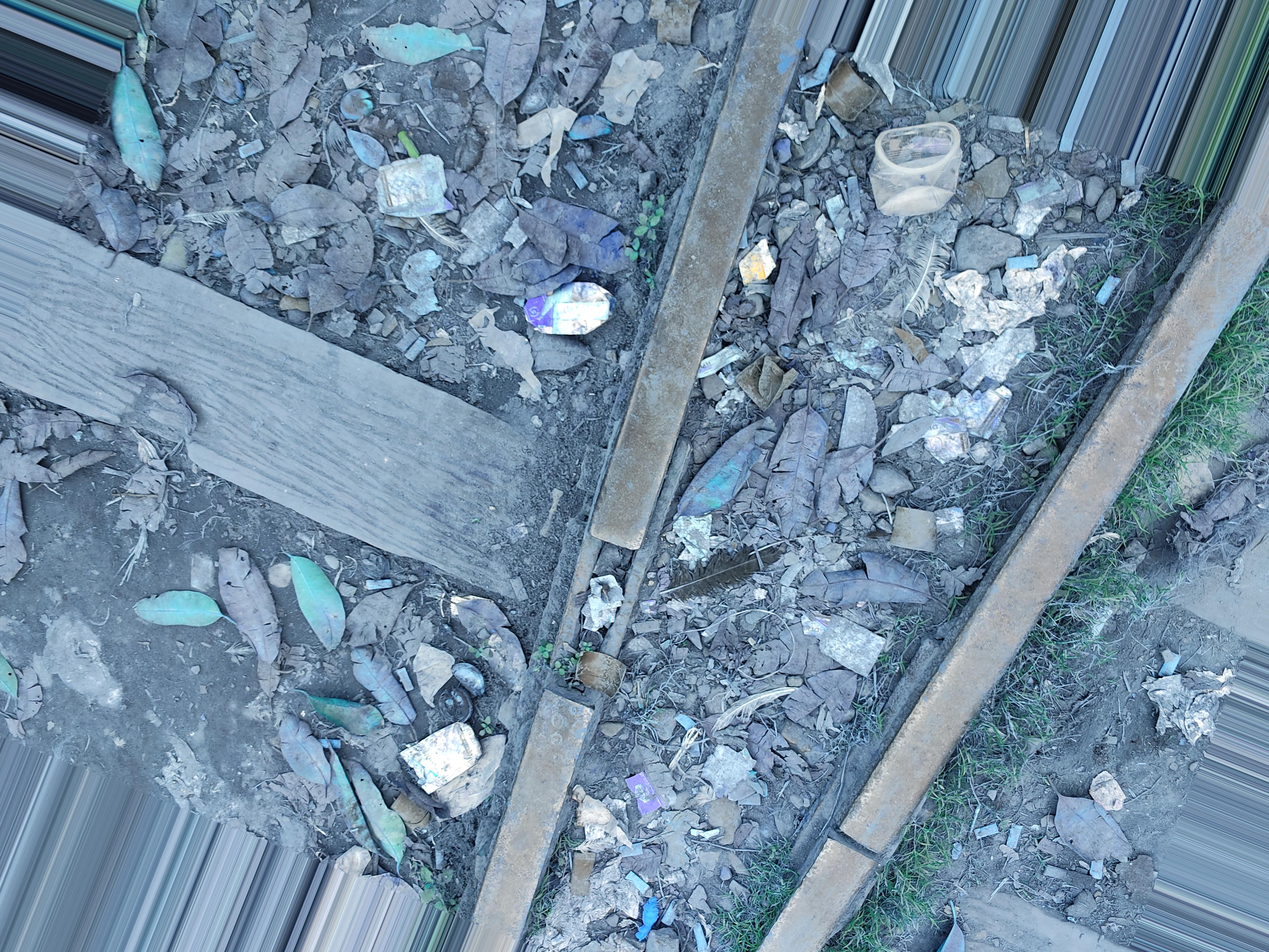tracks_fault: (495, 504, 704, 746)
